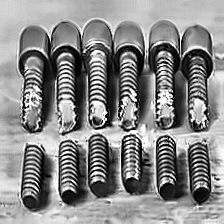creased_bolts: (13, 78, 215, 163)
